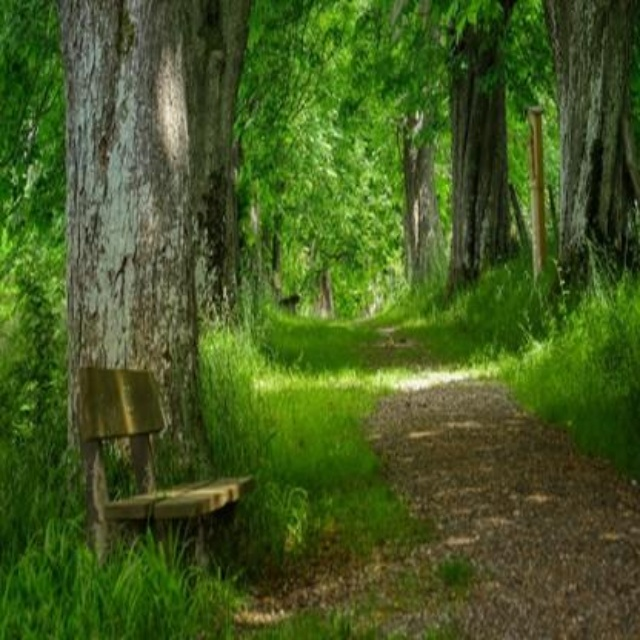obstacle: (54, 362, 265, 589)
